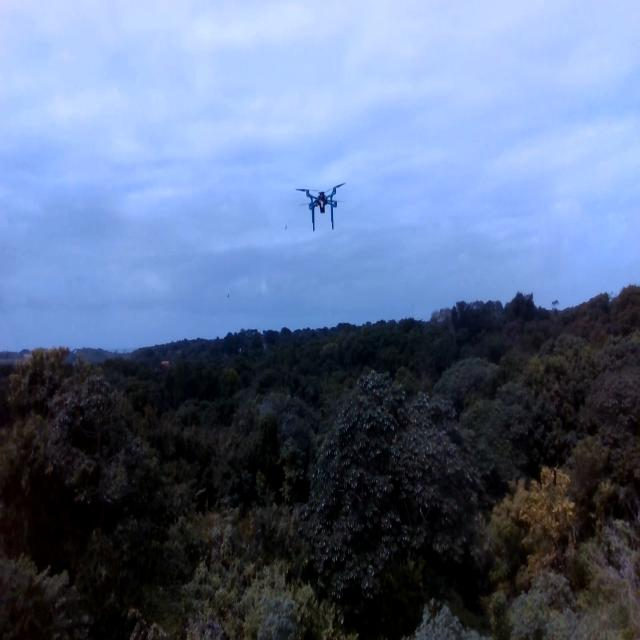-uav-: (295, 172, 349, 240)
